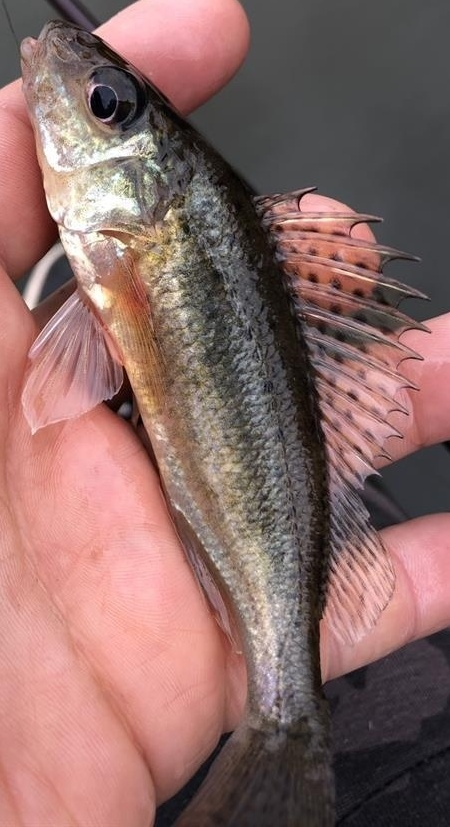Gymnocephalus cernuus: (20, 20, 430, 827)
